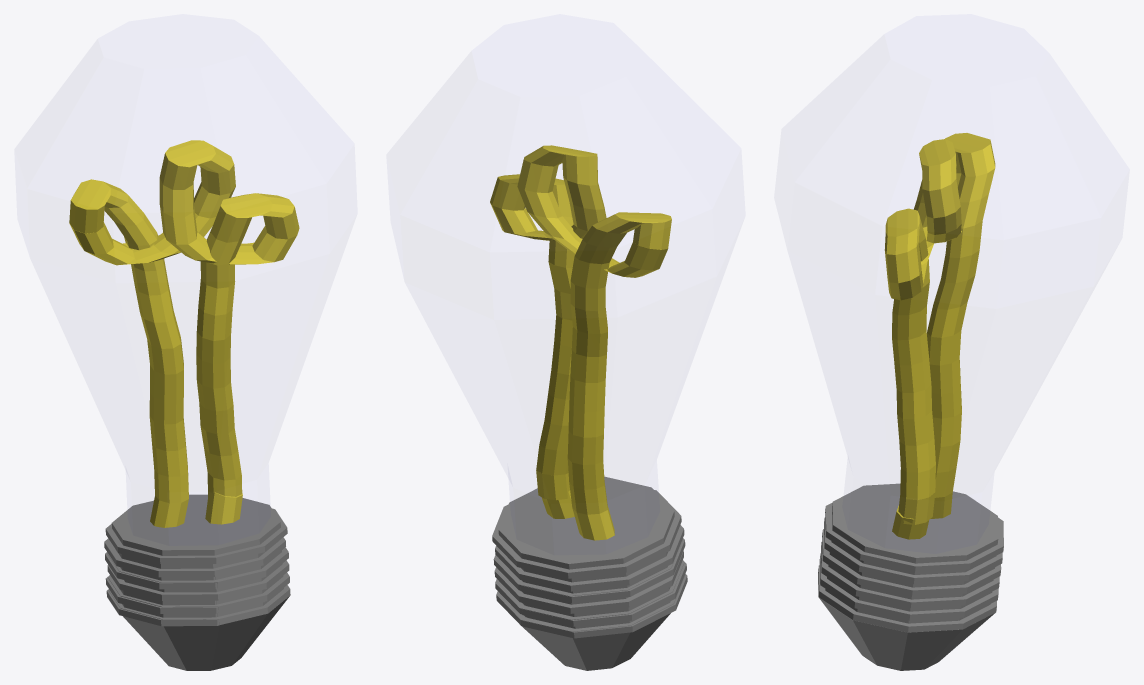
The picture shows the model from 3 angles, left to right: view 1: azimuth 30°, elevation 25°; view 2: azimuth 150°, elevation 25°; view 3: azimuth 270°, elevation 25°; orthographic projection. The views are drawn at different scales.
Parts seen in each view (by area): view 1: node_MeshObject-530236224-PolyPaper22; view 2: node_MeshObject-530236224-PolyPaper22; view 3: node_MeshObject-530236224-PolyPaper22.
Part boxes in pixels (<box>): node_MeshObject-530236224-PolyPaper22: <box>69,140,299,670</box>; node_MeshObject-530236224-PolyPaper22: <box>490,145,687,670</box>; node_MeshObject-530236224-PolyPaper22: <box>818,133,1003,670</box>.
Bounding box in the file's own units: 0.0973 × 0.1899 × 0.0991.
